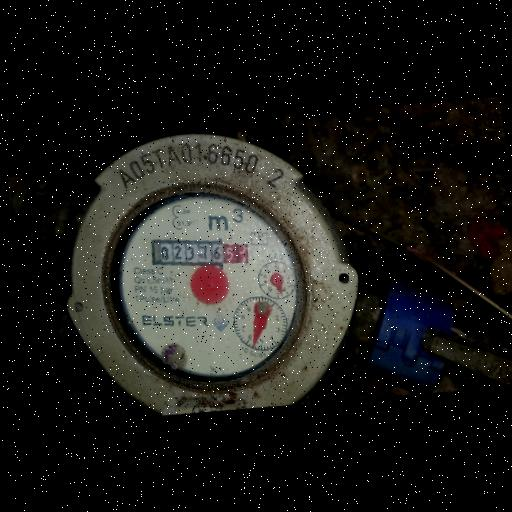0: (159, 242, 175, 264)
2: (171, 242, 187, 263)
3: (183, 242, 199, 264), (236, 243, 251, 264)
5: (223, 243, 240, 264)
6: (209, 243, 225, 264)
7: (196, 242, 213, 263)
border_water_meter_number: (152, 233, 250, 273)
